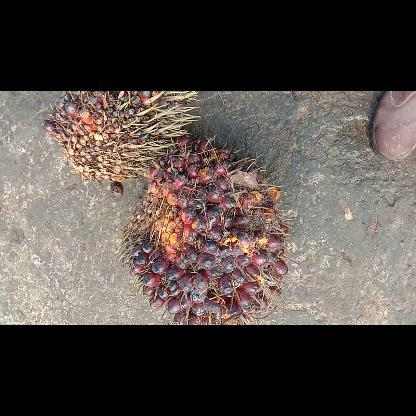Kurang masak: (118, 136, 294, 324)
TBS abnormal: (43, 90, 199, 182)
